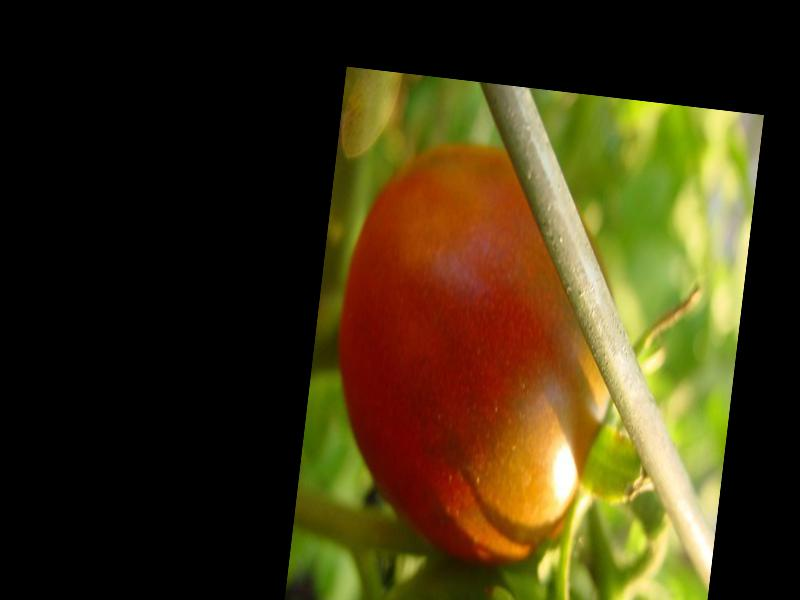Tomato: (315, 138, 635, 570)
